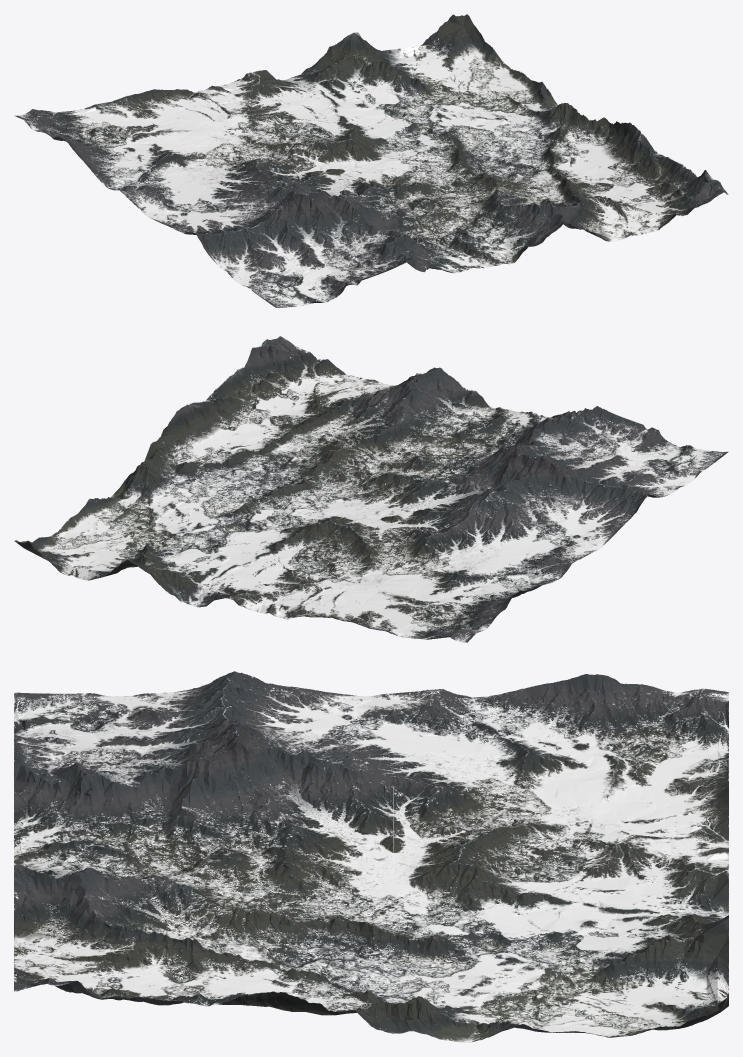
The model's file is snowy-terrain.glb.
3 views of the same model, one above another, from view 1: azimuth 30°, elevation 25°; view 2: azimuth 150°, elevation 25°; view 3: azimuth 270°, elevation 25° (orthographic). The views are drawn at different scales.
Visible parts, largest first — view 1: Plane; view 2: Plane; view 3: Plane.
Boxes of the visible parts, box(x1,y1,x2,y2) form: Plane: box(14, 14, 728, 307); Plane: box(14, 336, 728, 642); Plane: box(14, 671, 728, 1042).
Size of the model in its own units: 2 by 0.2653 by 2.
1 material, 1 textured.
